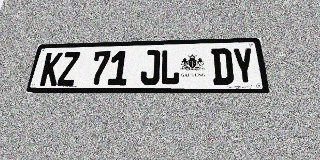1: (107, 51, 129, 85)
7: (89, 51, 111, 85)
D: (211, 48, 234, 85)
J: (140, 50, 160, 85)
K: (39, 52, 63, 86)
L: (160, 49, 180, 85)
Y: (232, 47, 257, 85)
Z: (57, 52, 80, 86)
